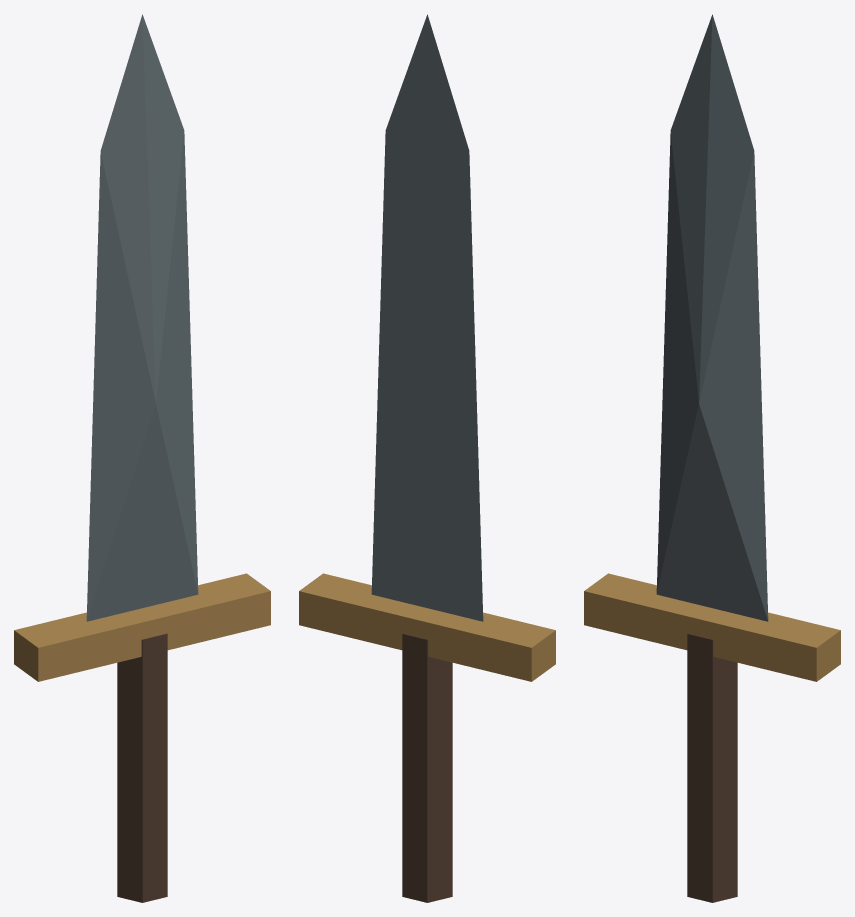
Rendered from NPC_Hand_00_Sword.glb.
3 renders of one model, left to right at view 1: azimuth 30°, elevation 25°; view 2: azimuth 150°, elevation 25°; view 3: azimuth 330°, elevation 25°, orthographic.
Parts seen in each view (by area): view 1: NPC_Hand_00_Sword; view 2: NPC_Hand_00_Sword; view 3: NPC_Hand_00_Sword.
Boxes of the visible parts, x1,y1,x2,y2 form: NPC_Hand_00_Sword: (14, 14, 270, 902); NPC_Hand_00_Sword: (299, 14, 555, 902); NPC_Hand_00_Sword: (584, 14, 840, 902).
Size of the model in its own units: 0.25 by 0.9 by 0.0484.
